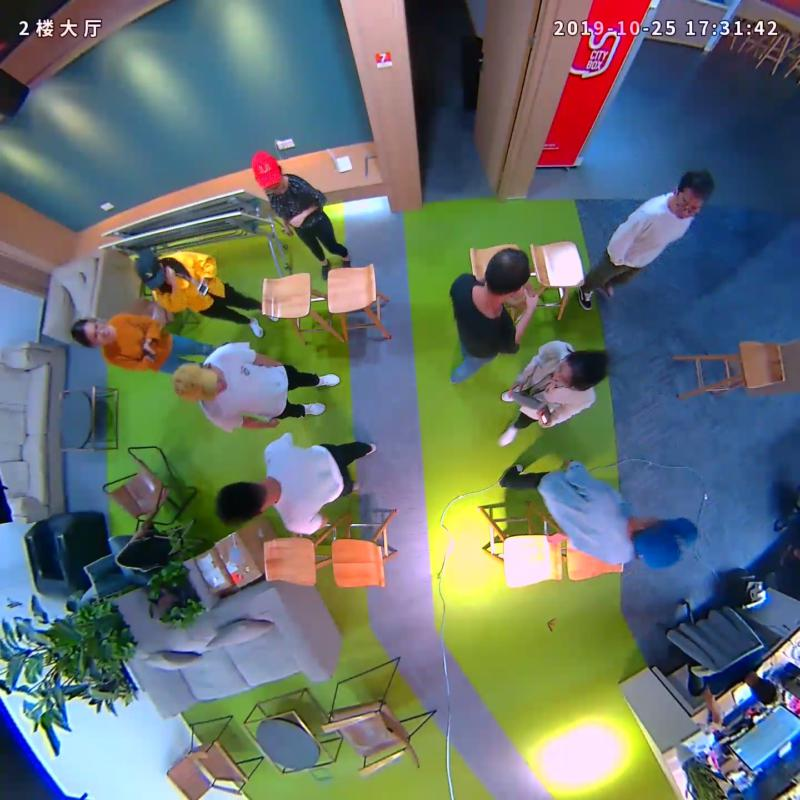head: (630, 515, 699, 570), (215, 481, 270, 528), (552, 348, 610, 390), (484, 247, 531, 296), (172, 362, 228, 401), (674, 170, 713, 219), (250, 150, 284, 194), (133, 250, 167, 293), (70, 317, 117, 347)
